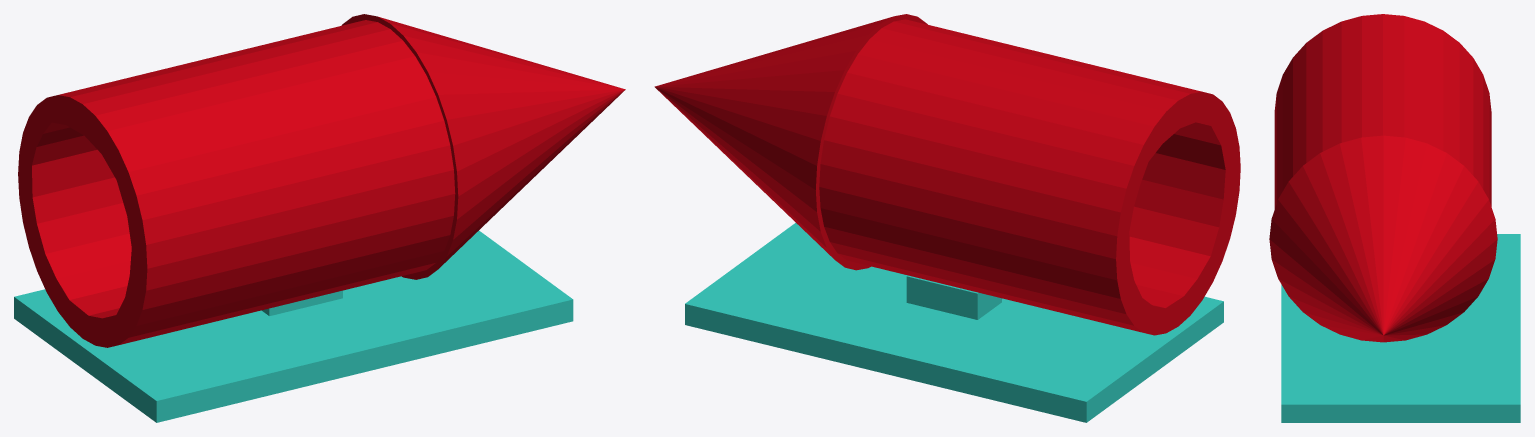
Rendered from Rocketfbx.fbx.
3 renders of one model, left to right at view 1: azimuth 30°, elevation 25°; view 2: azimuth 150°, elevation 25°; view 3: azimuth 270°, elevation 25°, orthographic. The views are drawn at different scales.
Visible parts, largest first — view 1: Cone; view 2: Cone; view 3: Cone.
Boxes of the visible parts, <box> form: Cone: <box>14,14,625,422</box>; Cone: <box>654,14,1240,422</box>; Cone: <box>1269,14,1520,422</box>.
Bounding box in the file's own units: 243 × 121 × 116.
